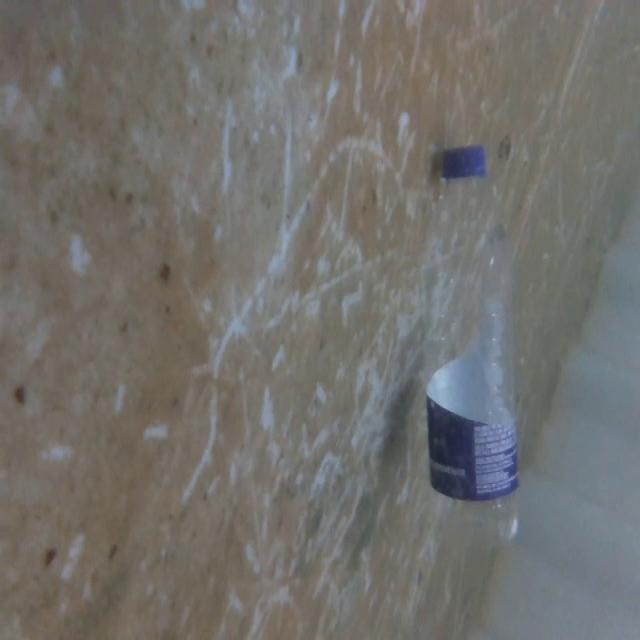plastic bottle: (423, 129, 534, 563)
